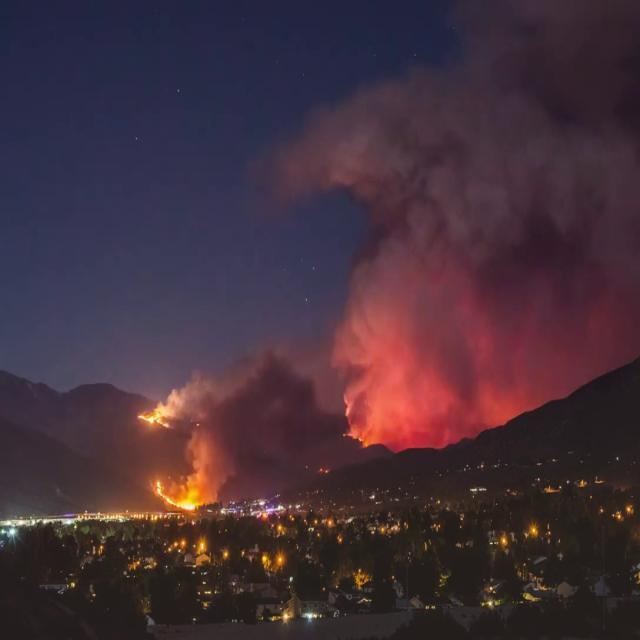Fire: (152, 478, 196, 511), (137, 410, 171, 430)
Smoke: (430, 100, 570, 254), (265, 70, 425, 198), (573, 128, 639, 262), (222, 349, 316, 422), (353, 190, 420, 265), (190, 428, 236, 502), (157, 376, 223, 418)
